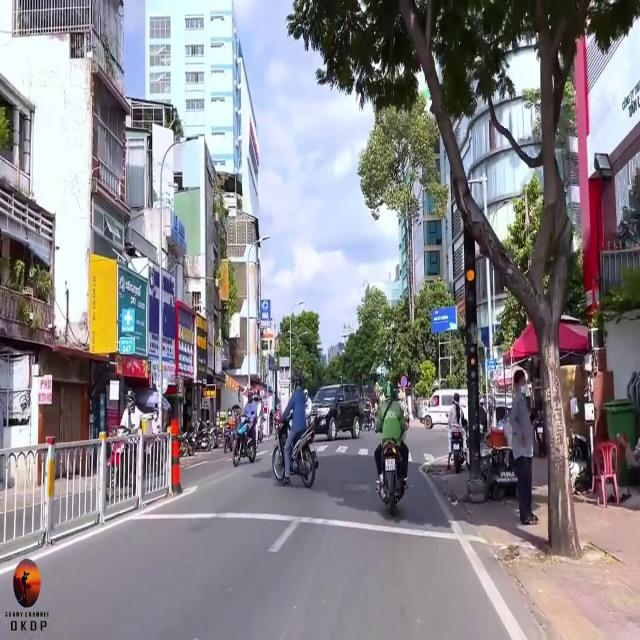bien_trang: (384, 458, 396, 469)
